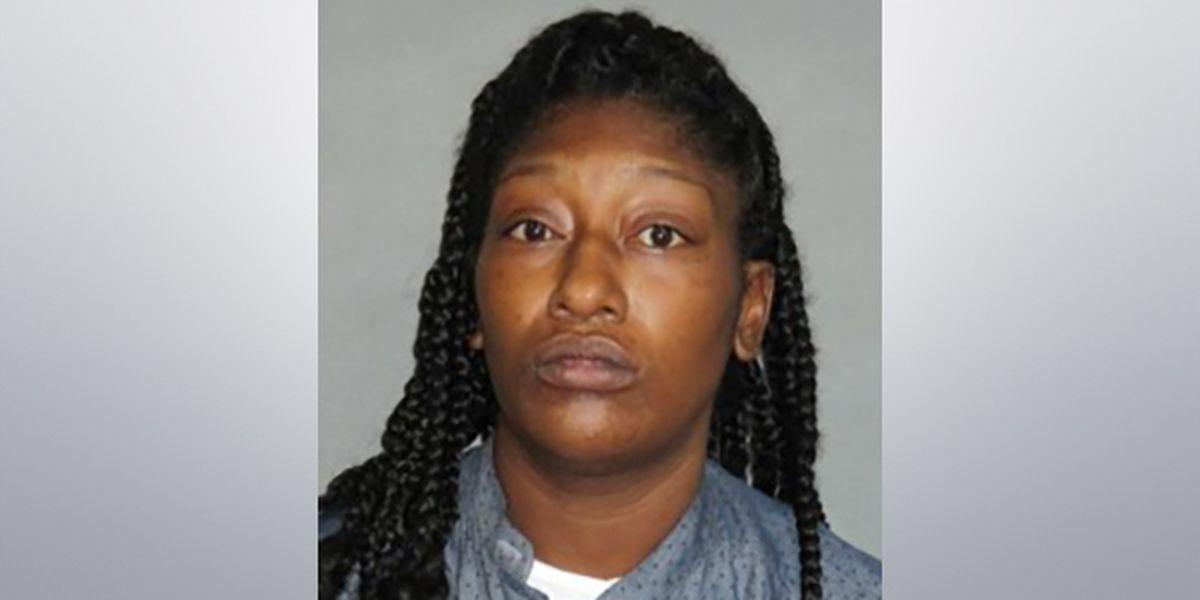Sober: (479, 139, 723, 412)
